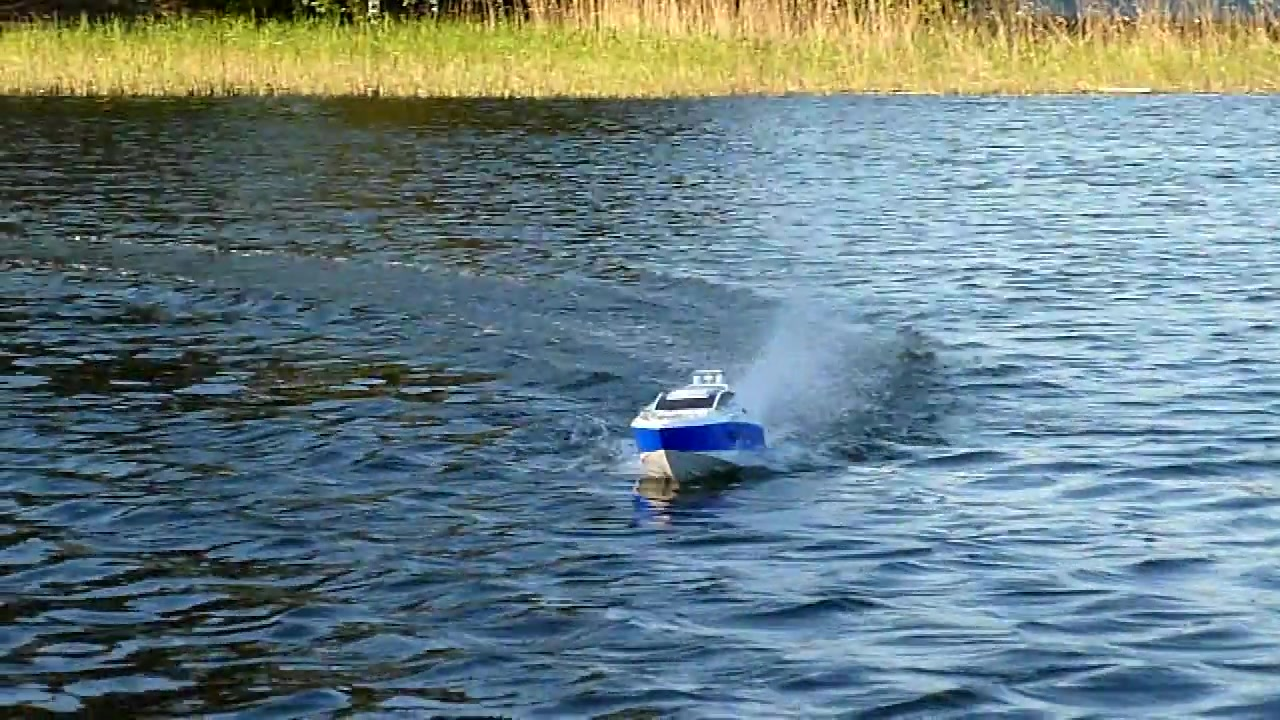boat: (628, 364, 783, 491)
